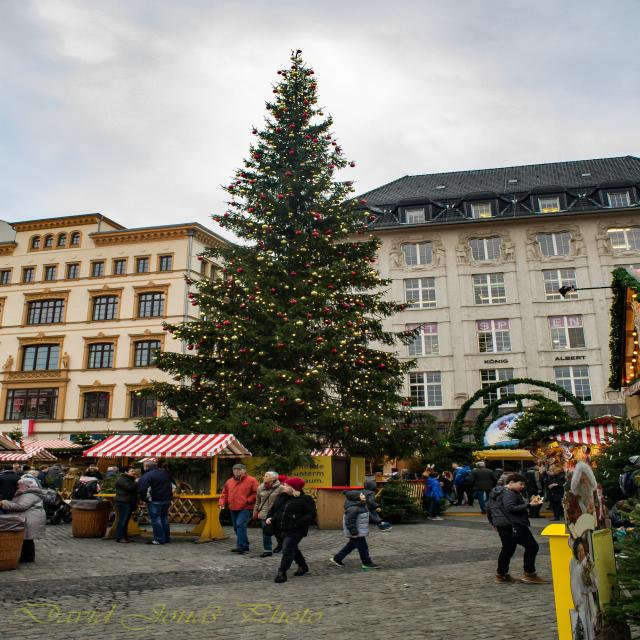Christmas-tree: (117, 41, 438, 434)
